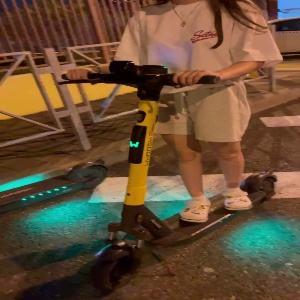human on a scooter: (57, 1, 282, 291)
